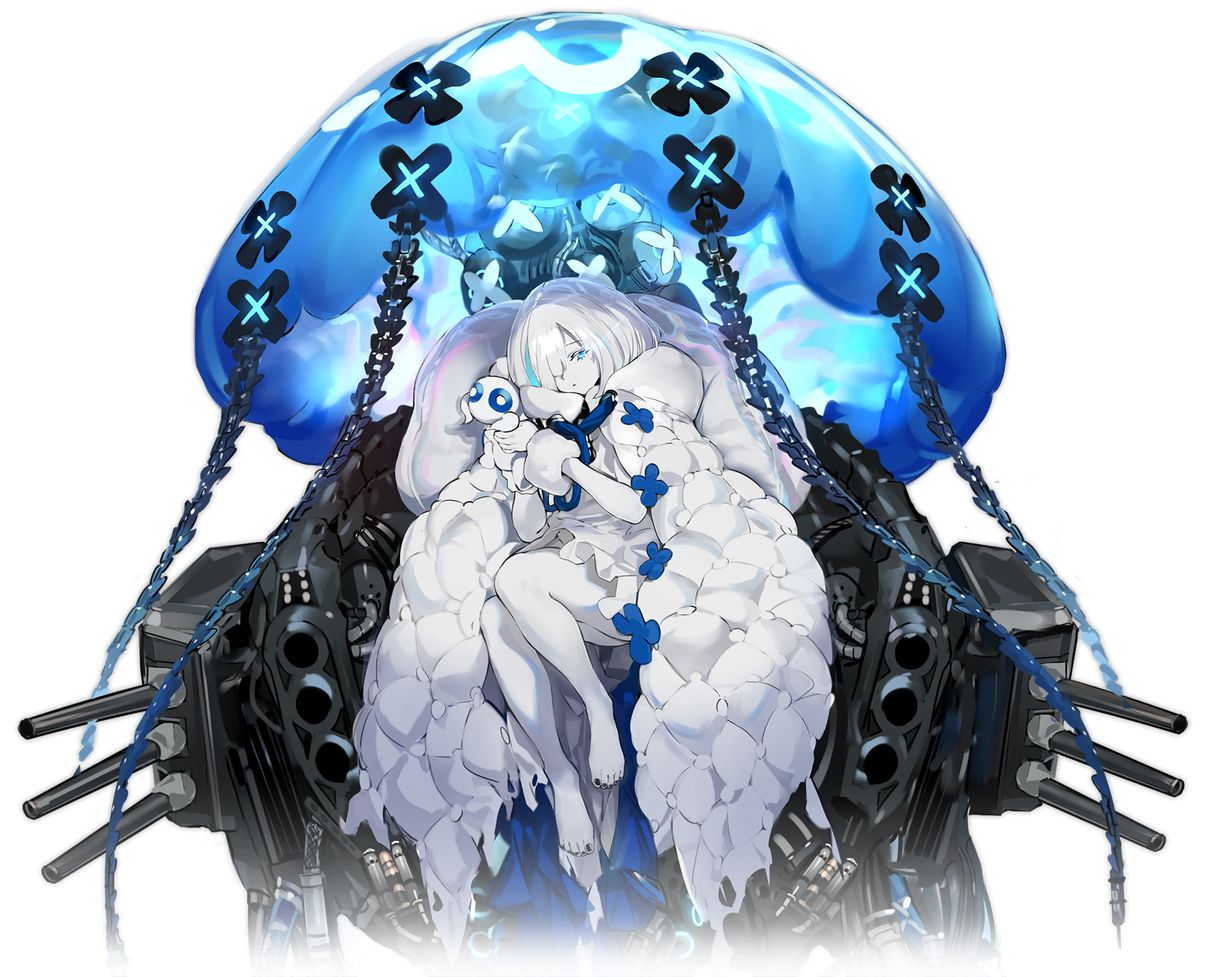person: (362, 220, 869, 976)
